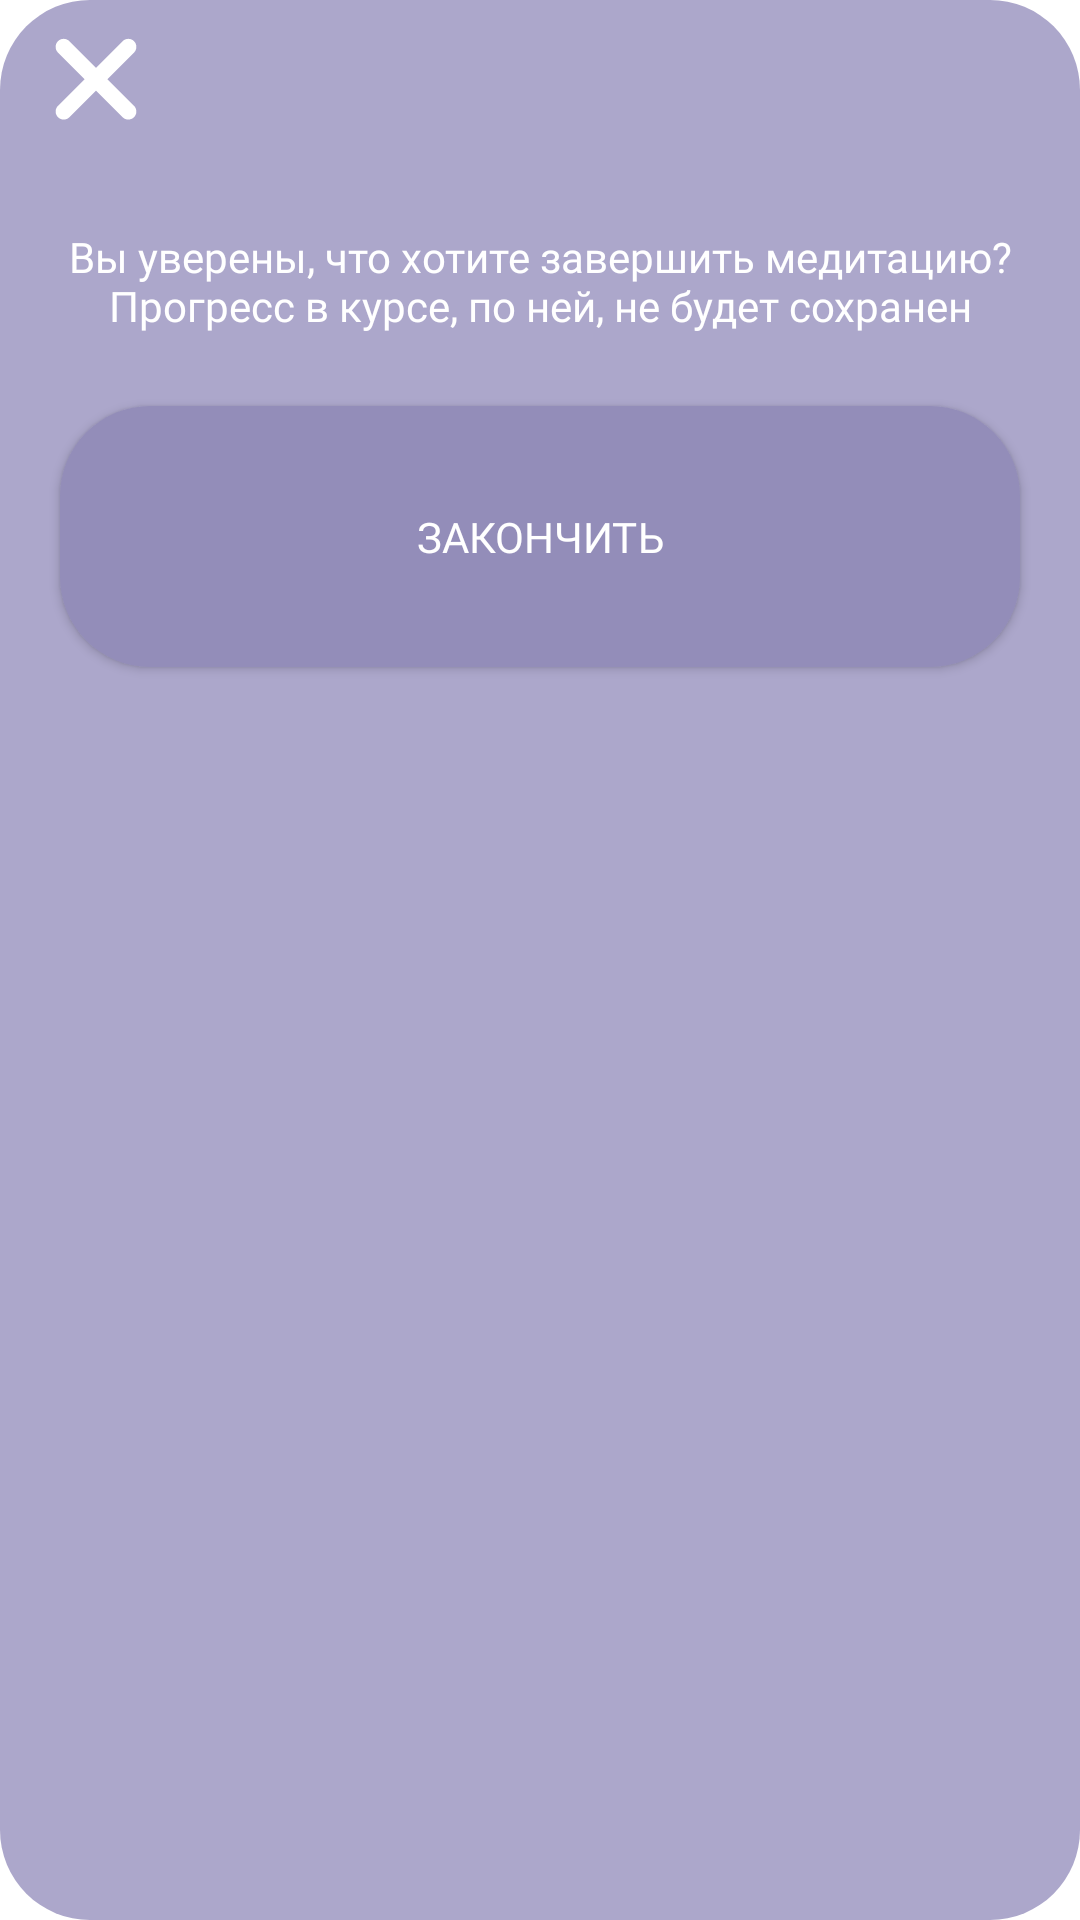

Icons on this 1080px×1920px Android screen, each with the point to tap as [x,y]:
cross: [95,79]
